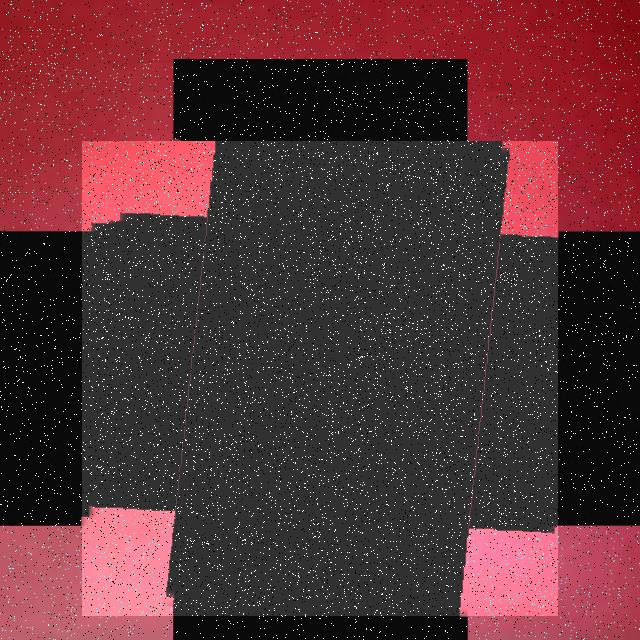lima puluh ribu rupiah: (82, 141, 558, 616)
